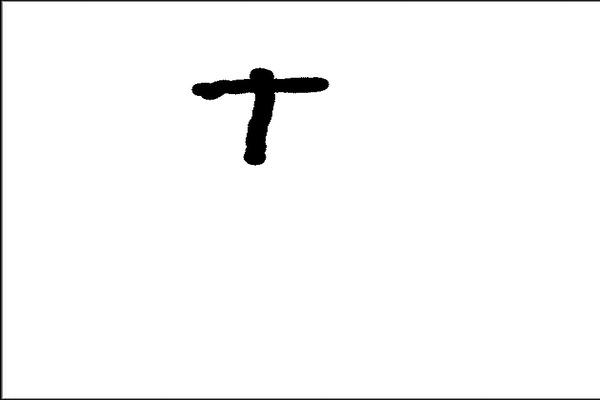T: (189, 59, 344, 170)
